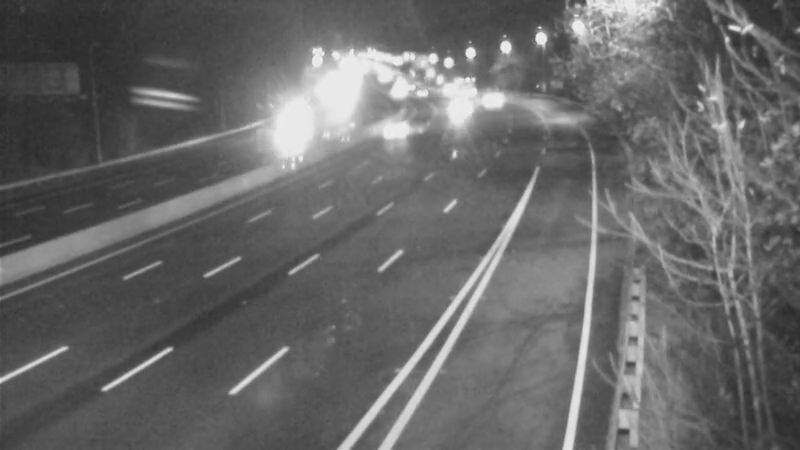vehicle: (444, 65, 494, 115), (400, 68, 450, 118), (377, 68, 427, 118), (462, 69, 512, 119), (425, 79, 475, 129), (370, 103, 420, 153), (257, 117, 307, 167)
